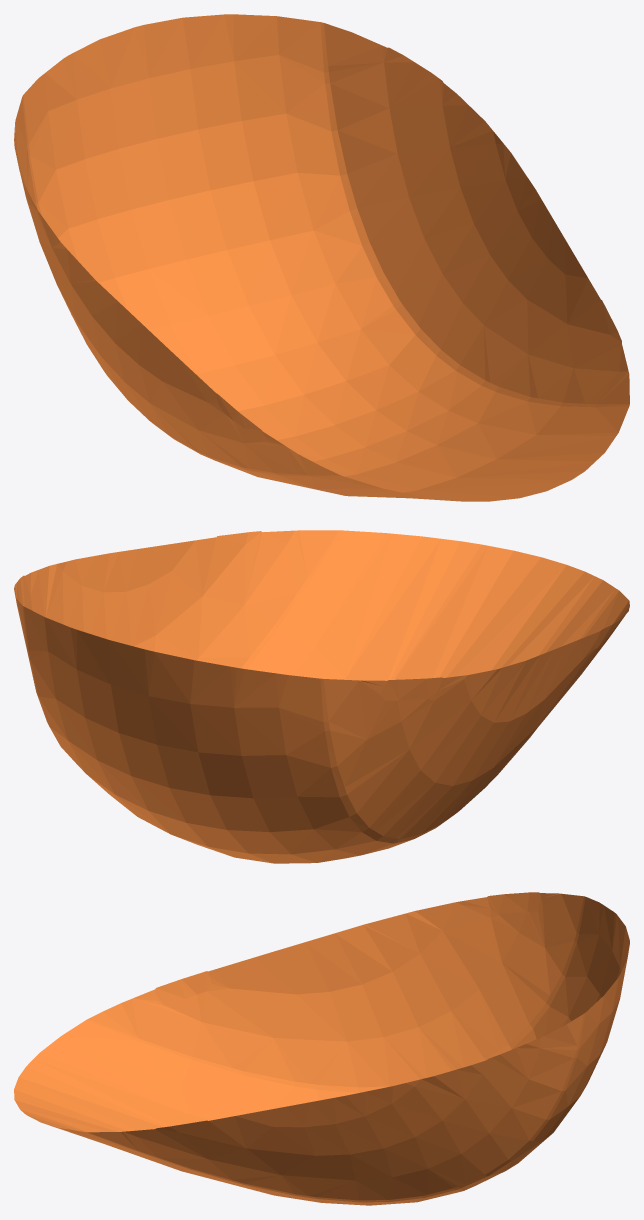
The model's file is kuka_link_5_vis_2.dae.
3 views of the same model, one above another, from view 1: azimuth 30°, elevation 25°; view 2: azimuth 150°, elevation 25°; view 3: azimuth 270°, elevation 25° (orthographic). The views are drawn at different scales.
Visible parts, largest first — view 1: Node_0000015C5C912E10; view 2: Node_0000015C5C912E10; view 3: Node_0000015C5C912E10.
Boxes of the visible parts, left/top/right/bottom form: Node_0000015C5C912E10: left=14, top=14, right=629, bottom=501; Node_0000015C5C912E10: left=14, top=530, right=629, bottom=863; Node_0000015C5C912E10: left=14, top=892, right=629, bottom=1205.
Bounding box in the file's own units: 0.1222 × 0.0807 × 0.1873.
